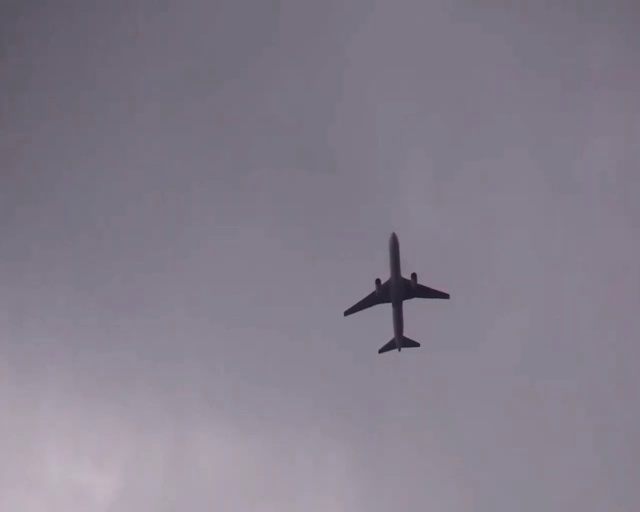AIRPLANE: (343, 231, 451, 354)
